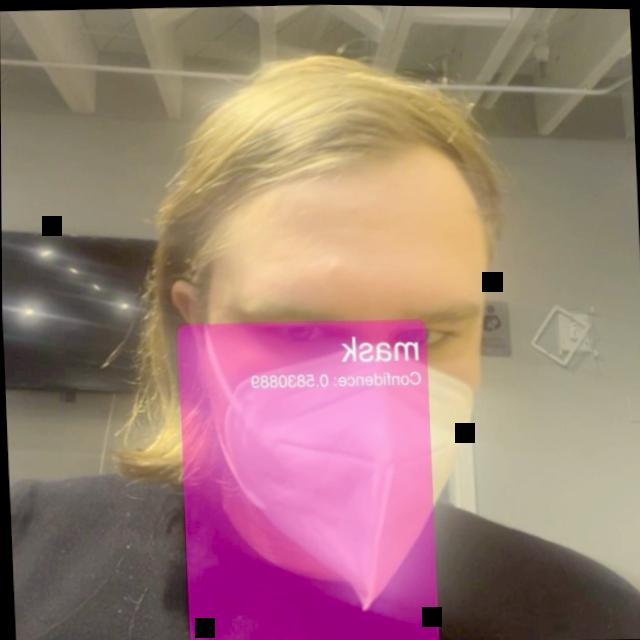Mask: (82, 47, 497, 593)
